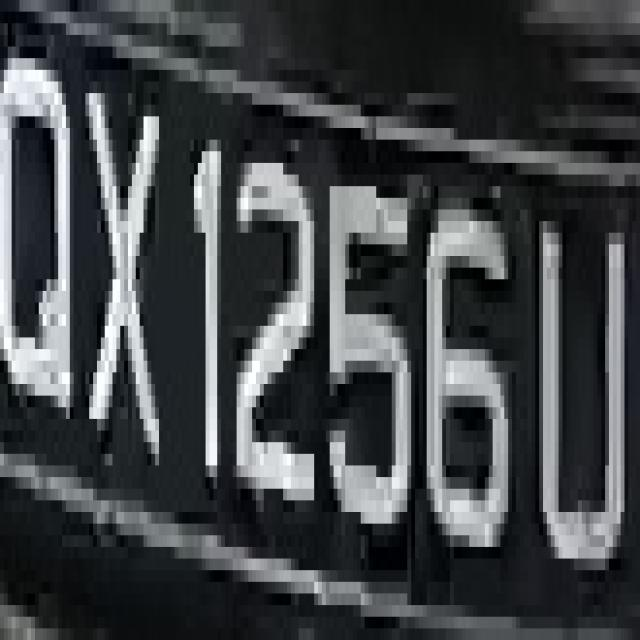1: (178, 70, 229, 500)
2: (221, 105, 322, 605)
5: (318, 116, 431, 547)
6: (411, 128, 516, 593)
Q: (0, 35, 85, 489)
U: (523, 174, 628, 640)
X: (85, 82, 167, 500)
